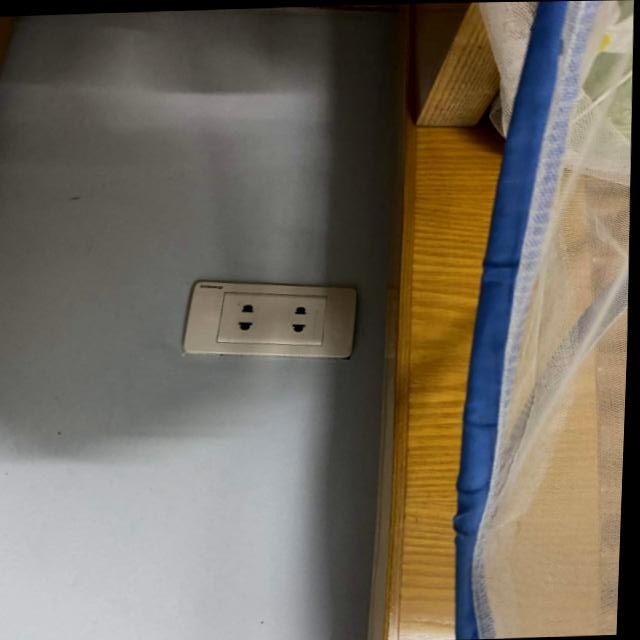outlet: (181, 273, 361, 363)
